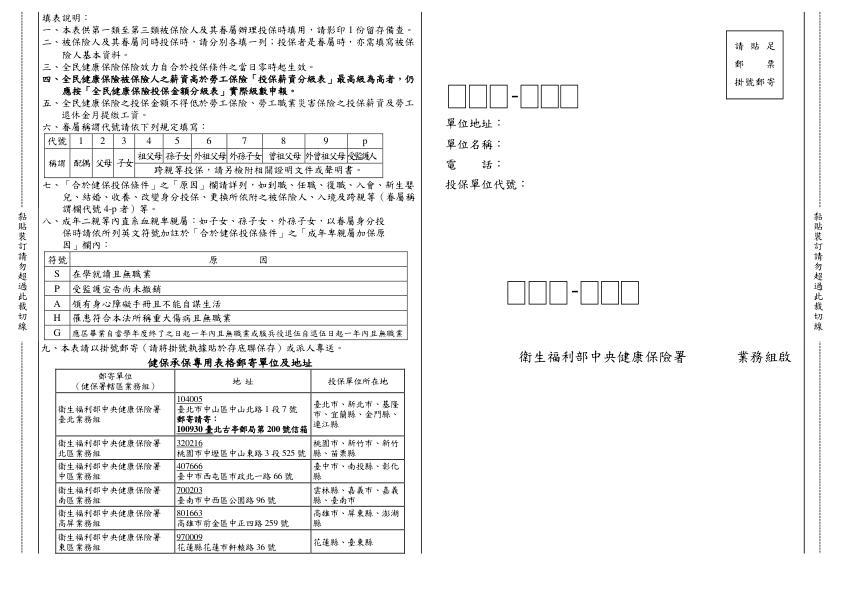input: (502, 276, 643, 310), (444, 81, 584, 112)
table: (50, 367, 410, 558), (42, 250, 409, 341), (41, 133, 387, 179)
text: (39, 179, 418, 216), (39, 60, 416, 97), (39, 216, 393, 249), (40, 36, 420, 60), (38, 97, 416, 120), (40, 22, 416, 36), (41, 343, 346, 355), (516, 350, 687, 367), (732, 39, 776, 90), (143, 357, 317, 369), (14, 210, 30, 333), (37, 122, 210, 132), (736, 344, 793, 371), (440, 176, 528, 192), (443, 136, 506, 151), (443, 155, 506, 170), (444, 115, 505, 130), (39, 11, 90, 23)
